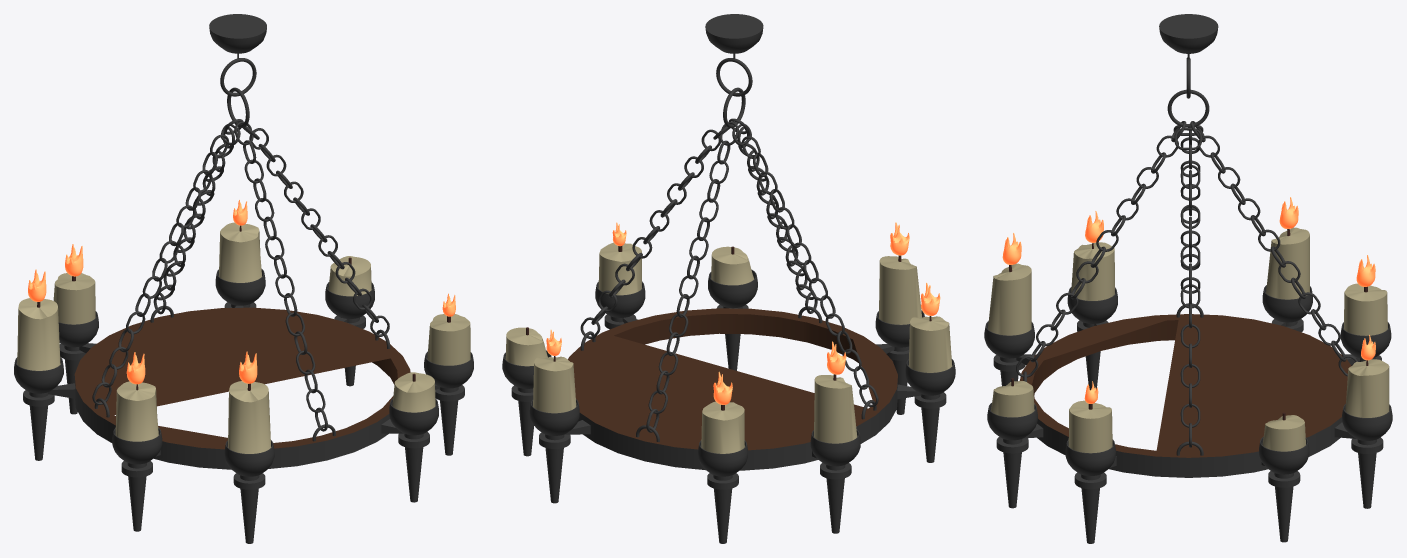
The model's file is Lampadario.fbx.
3 renders of one model, left to right at view 1: azimuth 30°, elevation 25°; view 2: azimuth 150°, elevation 25°; view 3: azimuth 270°, elevation 25°, orthographic.
Parts seen in each view (by area): view 1: Chandelier.102; view 2: Chandelier.102; view 3: Chandelier.102.
Boxes of the visible parts, left/top/right/bottom form: Chandelier.102: left=14, top=14, right=473, bottom=543; Chandelier.102: left=502, top=14, right=955, bottom=543; Chandelier.102: left=984, top=14, right=1392, bottom=543.
Bounding box in the file's own units: 243 × 283 × 240.
